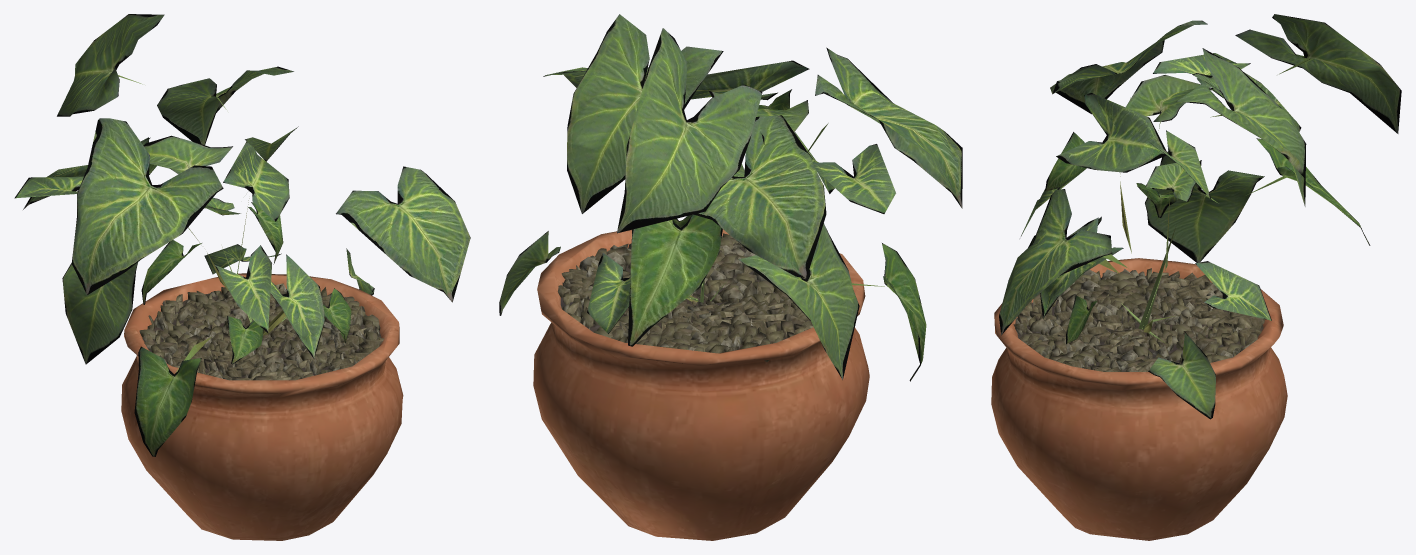
File: potted_plant_02.glb
The picture shows the model from 3 angles, left to right: view 1: azimuth 30°, elevation 25°; view 2: azimuth 150°, elevation 25°; view 3: azimuth 270°, elevation 25°; orthographic projection. The views are drawn at different scales.
Visible parts, largest first — view 1: potted_plant_02_leaves, potted_plant_02_pot; view 2: potted_plant_02_leaves, potted_plant_02_pot; view 3: potted_plant_02_pot, potted_plant_02_leaves.
Boxes of the visible parts, box(x1,y1,x2,y2) form: potted_plant_02_leaves: box(14, 14, 470, 456); potted_plant_02_pot: box(121, 273, 403, 540); potted_plant_02_leaves: box(499, 14, 962, 381); potted_plant_02_pot: box(533, 229, 869, 540); potted_plant_02_pot: box(991, 258, 1287, 540); potted_plant_02_leaves: box(999, 14, 1401, 419).
Size of the model in its own units: 0.6875 by 0.8395 by 0.6537.
Materials: 2 (2 with a texture image).
